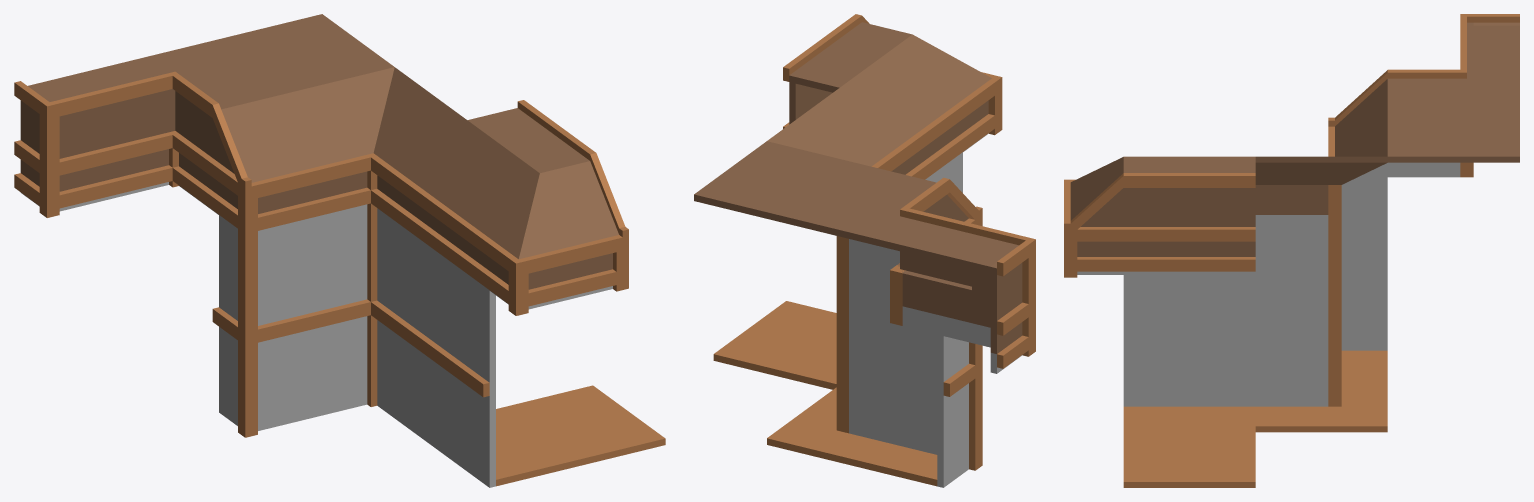
Rendered from Buildings.fbx.
3 views of the same model, side by side, from view 1: azimuth 30°, elevation 25°; view 2: azimuth 150°, elevation 25°; view 3: azimuth 270°, elevation 25° (orthographic). The views are drawn at different scales.
Parts seen in each view (by area): view 1: Build_Top_InCorner, Build_Top_InCorner_Mirrored, Build_Mid_InCorner, Build_Top_Side_Mirrored, Build_Mid_Corner, Build_Mid_Side, Build_Top_SmallCorner_Mirrored, Build_Top_Corner, Build_Bot_Full, Build_Top_Full, Build_Top_SmallCorner, Build_Top_Corner_Mirrored (+4 smaller); view 2: Build_Top_InCorner_Mirrored, Build_Top_Side_Mirrored, Build_Top_Full, Build_Bot_InCorner, Build_Mid_InCorner, Build_Top_SmallCorner_Mirrored, Build_Bot_Full, Build_Top_Side, Build_Bot_Corner, Build_Top_InCorner, Build_Mid_Corner, Build_Top_SmallCorner (+2 smaller); view 3: Build_Top_Side, Build_Mid_InCorner, Build_Mid_Side, Build_Bot_Side, Build_Bot_InCorner, Build_Top_InCorner, Build_Bot_Full, Build_Top_Full, Build_Top_InCorner_Mirrored, Build_Mid_Corner, Build_Top_Corner_Mirrored, Build_Bot_Corner (+3 smaller).
Boxes of the visible parts, left/top/right/bottom form: Build_Top_InCorner: left=269, top=67, right=466, bottom=237; Build_Top_InCorner_Mirrored: left=71, top=44, right=268, bottom=214; Build_Mid_InCorner: left=298, top=207, right=416, bottom=368; Build_Top_Side_Mirrored: left=410, top=120, right=539, bottom=290; Build_Mid_Corner: left=212, top=215, right=301, bottom=371; Build_Mid_Side: left=410, top=238, right=495, bottom=421; Build_Top_SmallCorner_Mirrored: left=14, top=75, right=103, bottom=217; Build_Top_Corner: left=212, top=98, right=301, bottom=240; Build_Bot_Full: left=496, top=385, right=665, bottom=475; Build_Top_Full: left=197, top=14, right=394, bottom=97; Build_Top_SmallCorner: left=483, top=173, right=572, bottom=315; Build_Top_Corner_Mirrored: left=540, top=153, right=628, bottom=299; Build_Top_InCorner_Mirrored: left=820, top=172, right=978, bottom=342; Build_Top_Side_Mirrored: left=840, top=34, right=969, bottom=179; Build_Top_Full: left=694, top=141, right=892, bottom=231; Build_Bot_InCorner: left=767, top=371, right=918, bottom=475; Build_Mid_InCorner: left=836, top=239, right=918, bottom=390; Build_Top_SmallCorner_Mirrored: left=946, top=225, right=1035, bottom=373; Build_Bot_Full: left=713, top=301, right=836, bottom=389; Build_Top_Side: left=783, top=14, right=912, bottom=128; Build_Bot_Corner: left=893, top=391, right=982, bottom=487; Build_Top_InCorner: left=767, top=88, right=899, bottom=254; Build_Mid_Corner: left=918, top=330, right=982, bottom=421; Build_Top_SmallCorner: left=913, top=35, right=1002, bottom=151; Build_Top_Side: left=1123, top=156, right=1255, bottom=274; Build_Mid_InCorner: left=1255, top=233, right=1341, bottom=352; Build_Mid_Side: left=1123, top=275, right=1255, bottom=352; Build_Bot_Side: left=1123, top=352, right=1255, bottom=426; Build_Bot_InCorner: left=1255, top=352, right=1387, bottom=432; Build_Top_InCorner: left=1255, top=101, right=1387, bottom=232; Build_Bot_Full: left=1123, top=426, right=1255, bottom=487; Build_Top_Full: left=1387, top=101, right=1519, bottom=162; Build_Top_InCorner_Mirrored: left=1387, top=39, right=1519, bottom=177; Build_Mid_Corner: left=1341, top=177, right=1387, bottom=296; Build_Top_Corner_Mirrored: left=1064, top=157, right=1123, bottom=277; Build_Bot_Corner: left=1341, top=297, right=1387, bottom=370.
Size of the model in its own units: 690 by 470 by 690.
